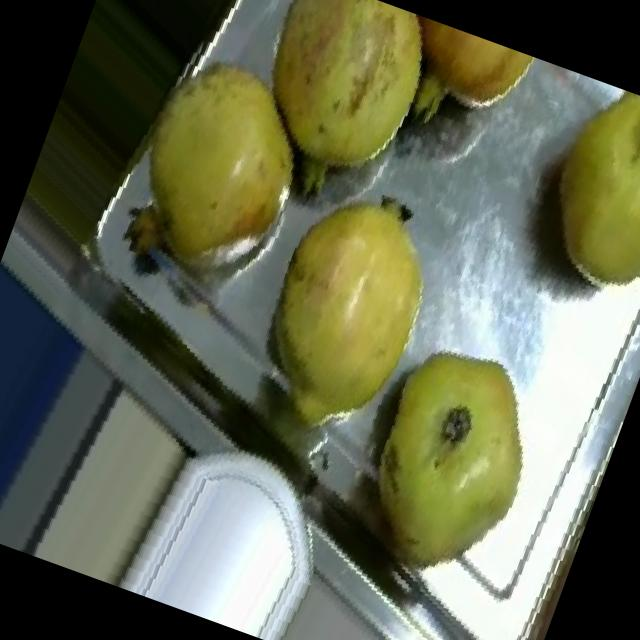fruit: (75, 5, 358, 325), (213, 142, 487, 468), (322, 311, 572, 612), (190, 0, 478, 245), (500, 71, 640, 327)
